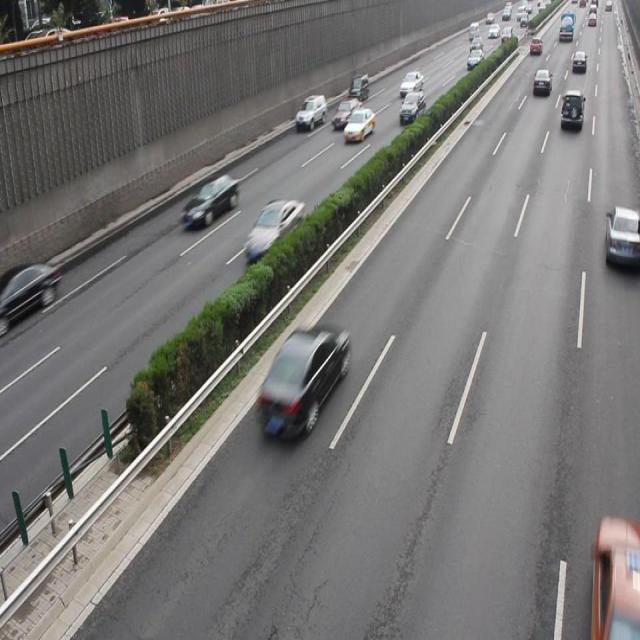car: (254, 323, 346, 438), (590, 514, 640, 640), (243, 197, 304, 262), (1, 259, 60, 322), (180, 172, 238, 230), (603, 204, 640, 268), (294, 92, 326, 130), (343, 107, 374, 142), (558, 90, 583, 132), (332, 98, 362, 130), (397, 90, 425, 123)
